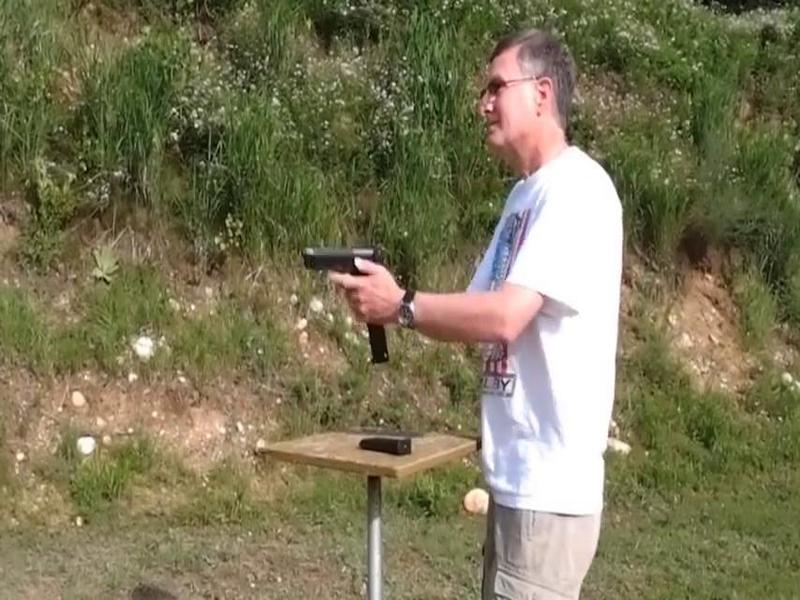Pistola: (295, 231, 403, 321)
